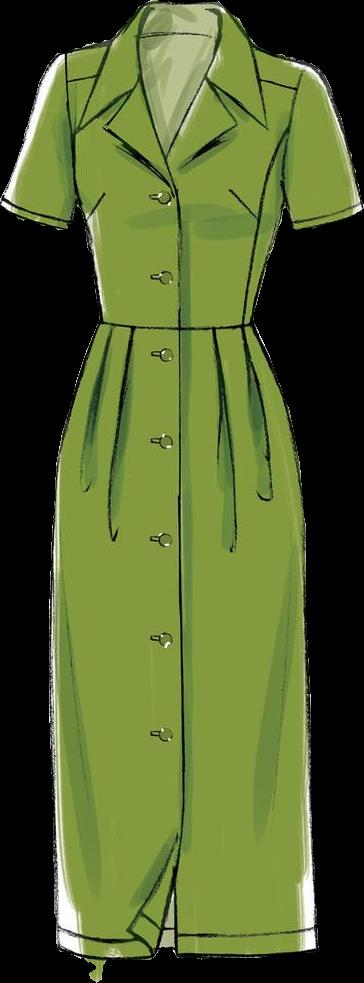Bodice: (62, 1, 312, 325)
Hemline: (51, 935, 324, 962)
Neckline: (130, 0, 224, 162)
Skirt: (49, 320, 317, 959)
Sleeve: (1, 53, 86, 228), (285, 65, 363, 229)
Sleeveline: (53, 54, 87, 203), (278, 63, 313, 201)
Waistline: (66, 40, 272, 193), (97, 313, 255, 334)
